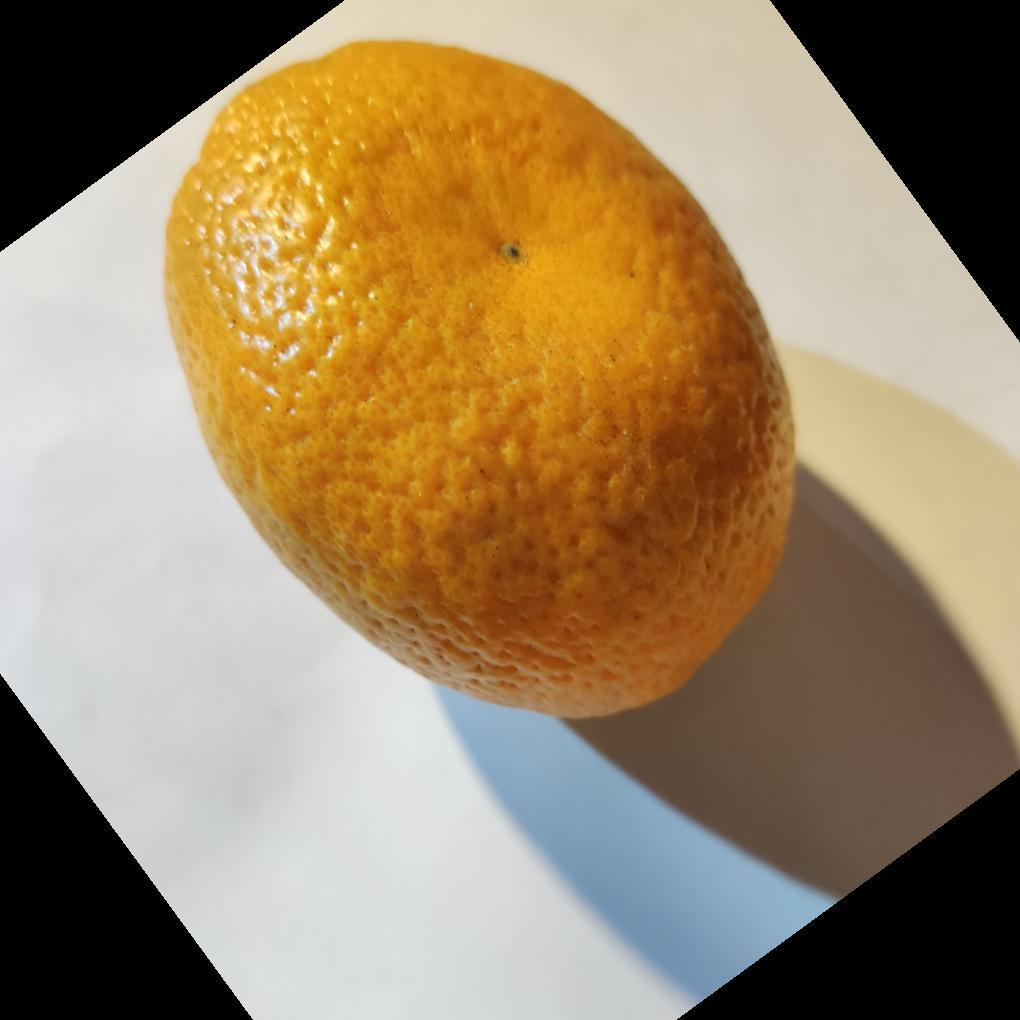FreshGuava: (161, 41, 798, 725)
